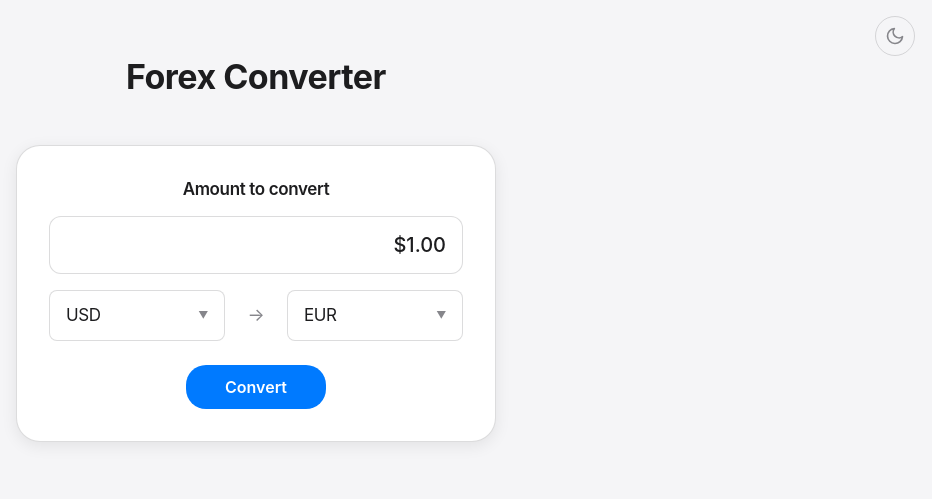
Test: App.vue › displays error message on failed API response
Replace the text in the field with "100" at x=256, y=245, box [49,216,463,274]
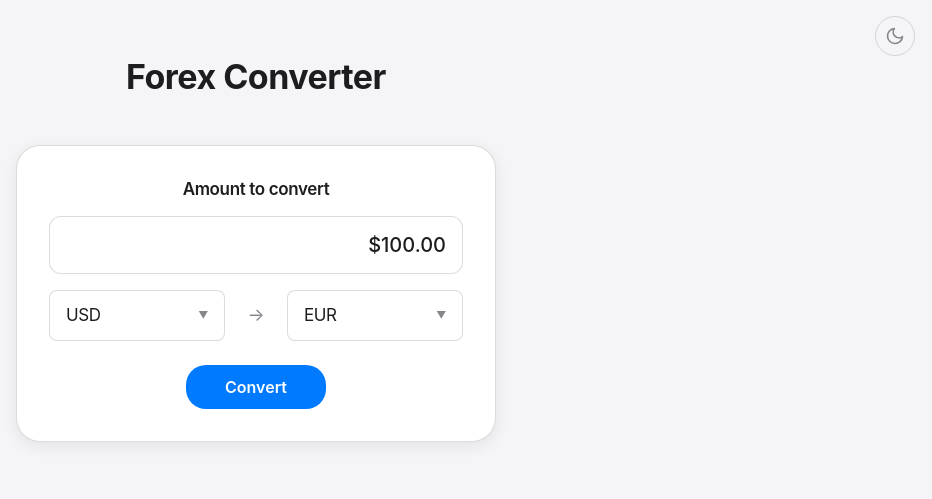
Click the button with class "convert-button".
click(256, 387)  # box [186,365,326,409]
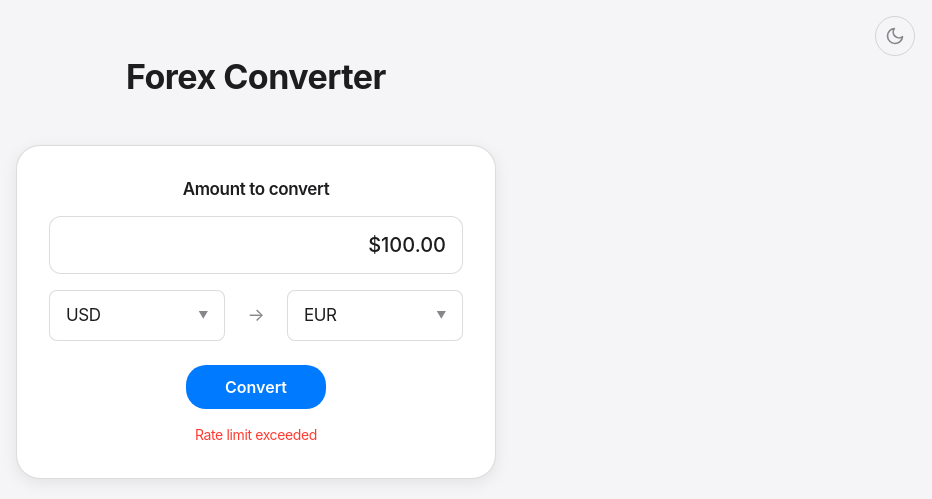
Check: the text "Rate limit exceeded" is shown, box [195,426,317,443]
